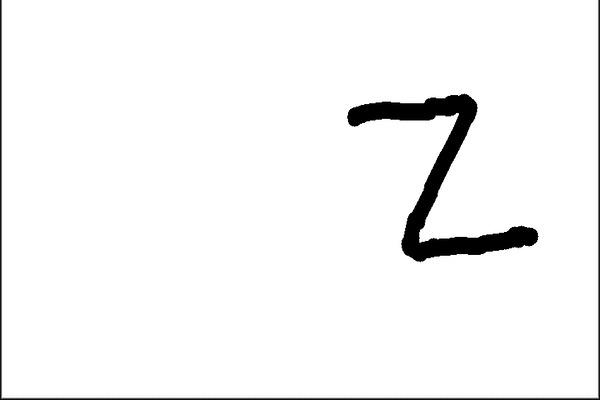Z: (335, 89, 545, 264)
